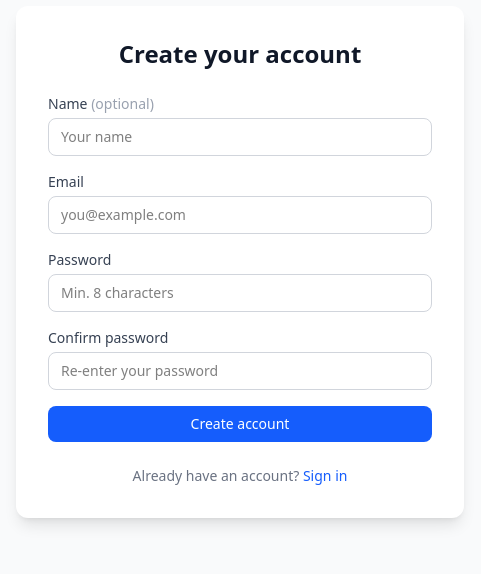
Test: Register › shows server error on registration failure
Step 1. Type "taken@example.com" into the field labelled "Email" → {"x": 240, "y": 215}, box [48,196,432,234]
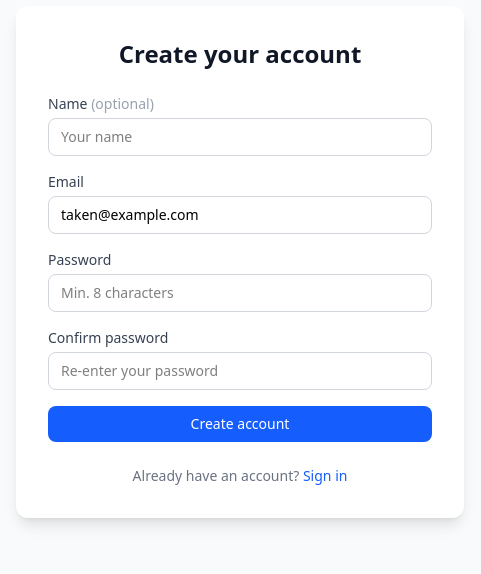
Step 2. Type "password123" into the password field labelled "Password" → {"x": 240, "y": 293}, box [48,274,432,312]
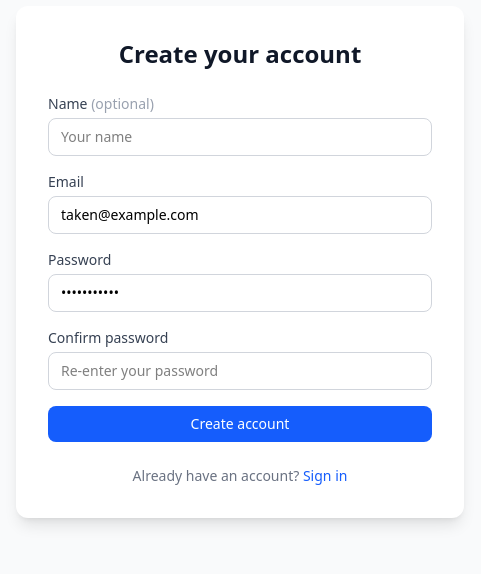
Step 3. Type "password123" into the password field labelled "Confirm password" → {"x": 240, "y": 371}, box [48,352,432,390]
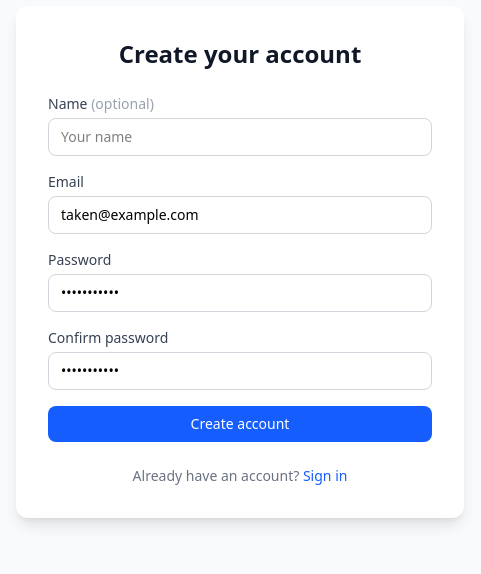
Step 4. Click the button "Create account" → {"x": 240, "y": 424}, box [48,406,432,442]
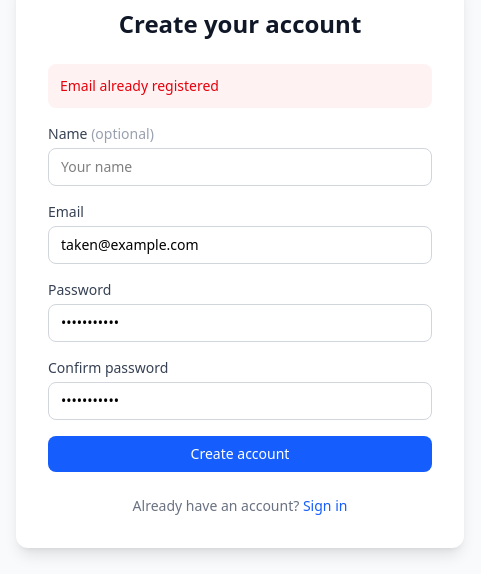
Expected: the text "Email already registered" is shown, [48,64,432,108]
